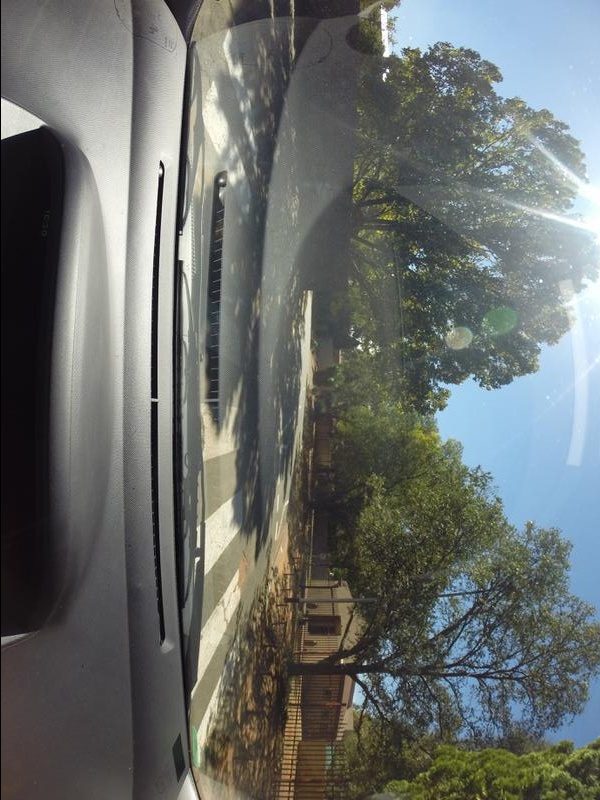pothole: (232, 552, 249, 585)
